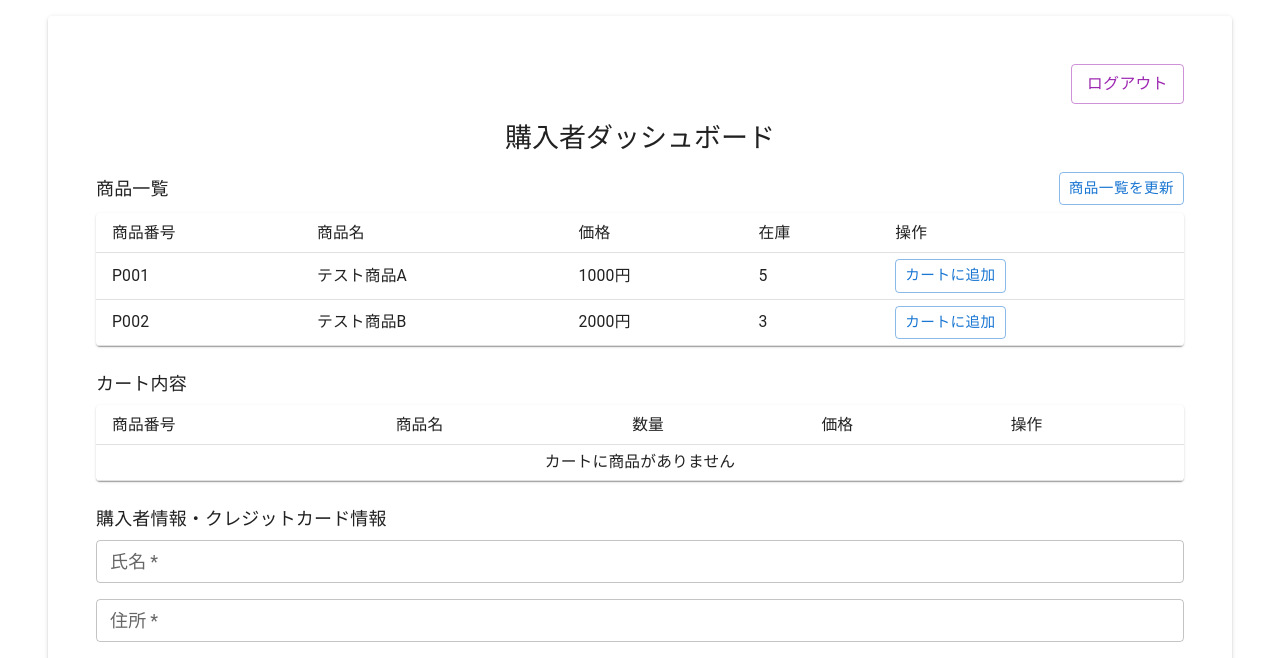
Test case: PurchaserDashboard › 注文処理エラーハンドリングをテスト
The image size is (1280, 658).
Click the button "カートに追加" in the row of "P001" at (950, 276), box [895, 259, 1006, 293]
(page scrolled)
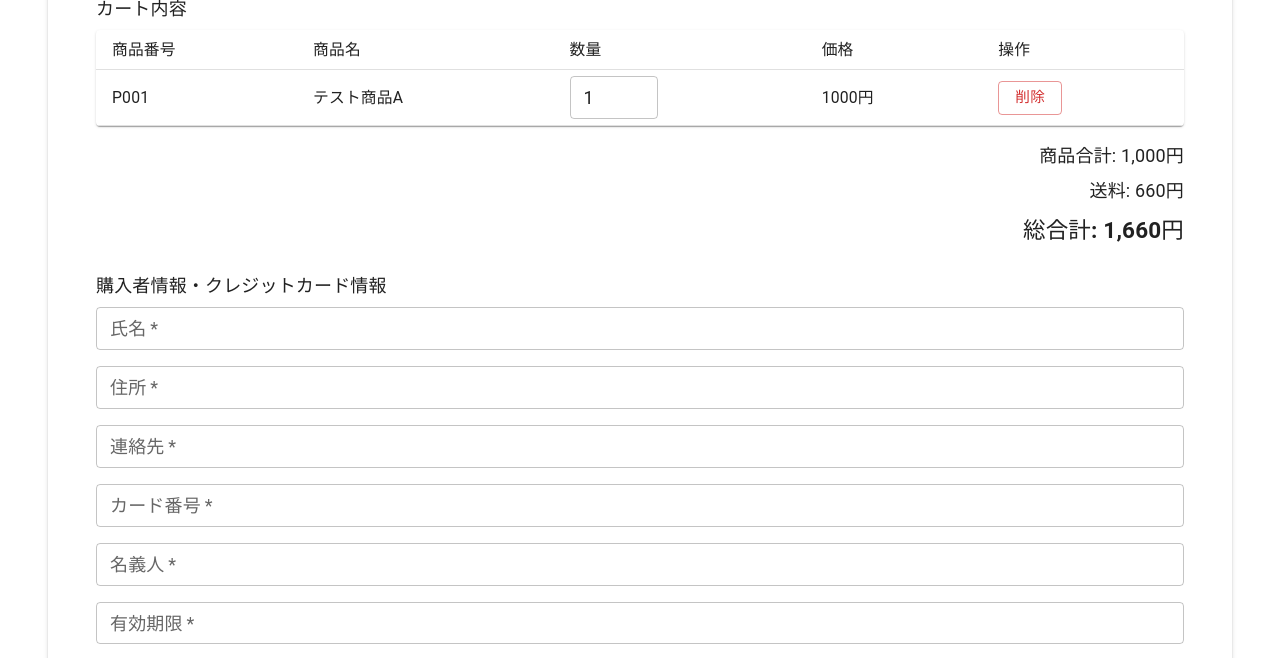
// 購入者情報を不完全に入力（意図的にエラーを発生）
Type "テスト" into the field labelled "氏名 *" at (640, 329), box [96, 307, 1184, 350]
(page scrolled)
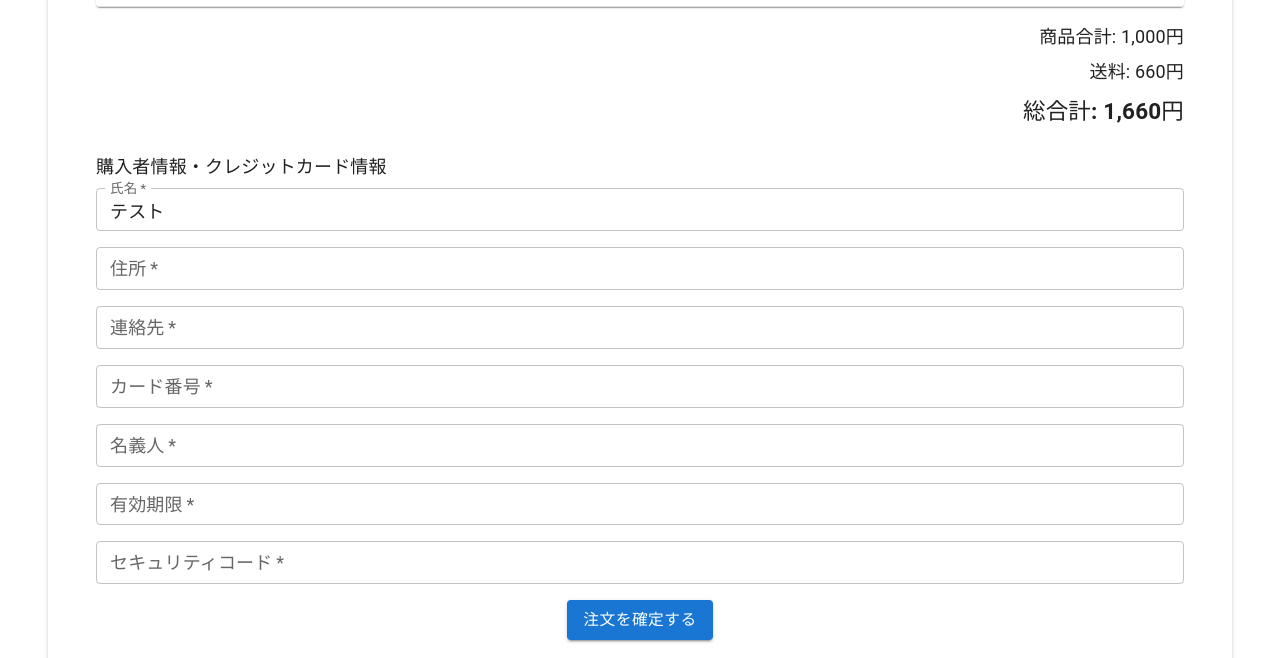
// 注文確定ボタンをクリック
Click the button "注文を確定する" at (640, 620), box [567, 600, 713, 640]
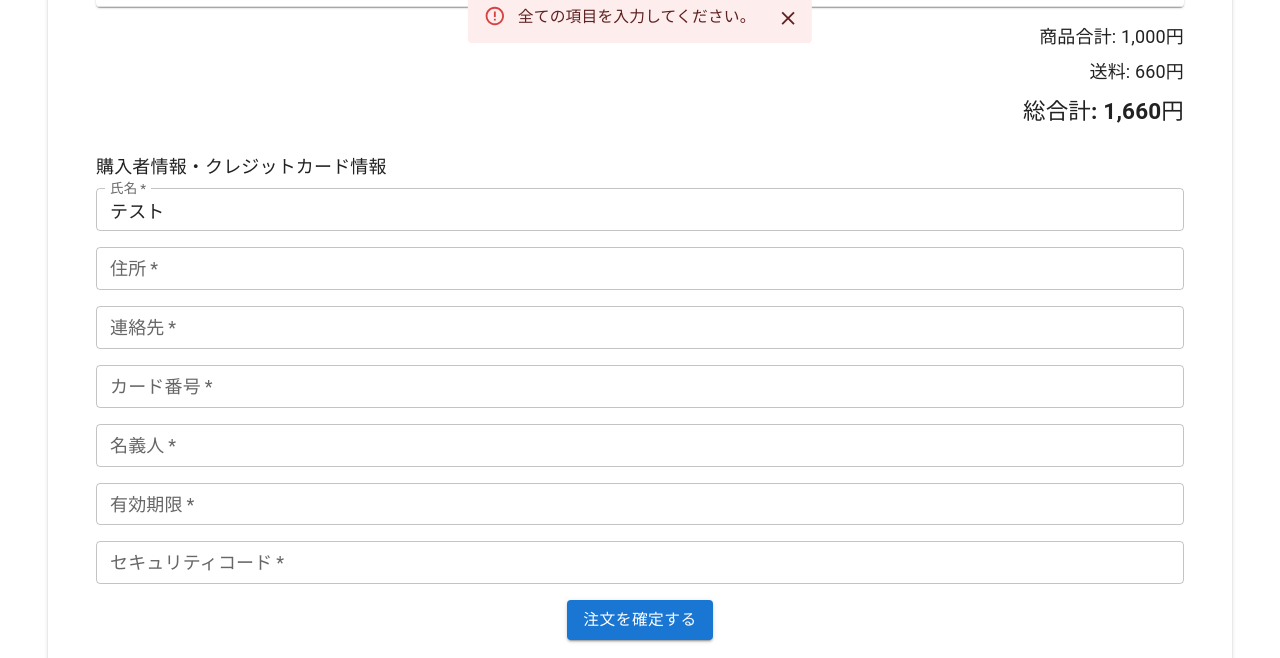
Expected: the text "全ての項目を入力してください。" is shown, [518, 7, 756, 26]
